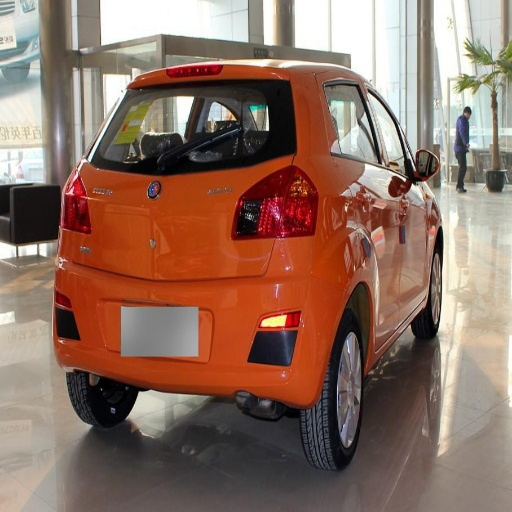back_bumper: (53, 233, 341, 396)
back_glass: (100, 89, 241, 152)
back_left_light: (61, 169, 87, 231)
back_right_door: (326, 82, 398, 337)
trunk: (66, 156, 303, 341)
